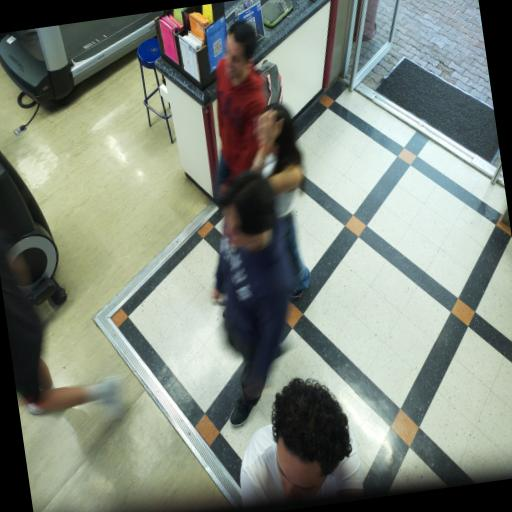person: (0, 233, 121, 416), (212, 171, 289, 426), (240, 378, 362, 506), (251, 104, 309, 298), (214, 22, 266, 194)
